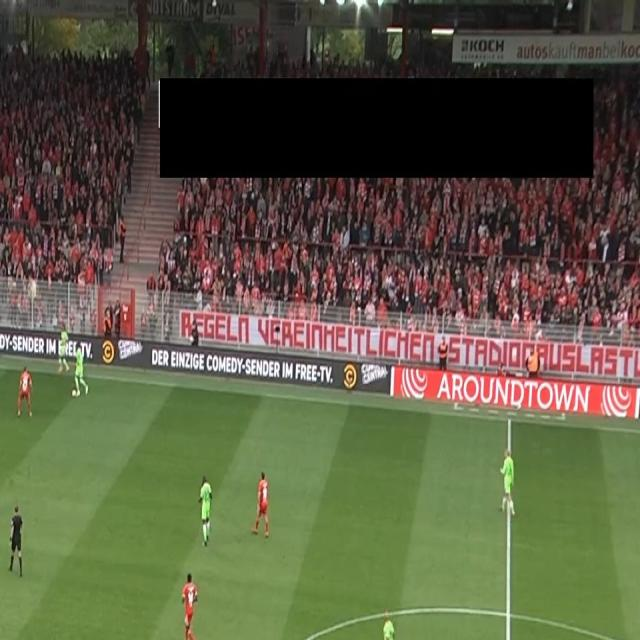ball: (70, 388, 78, 402)
